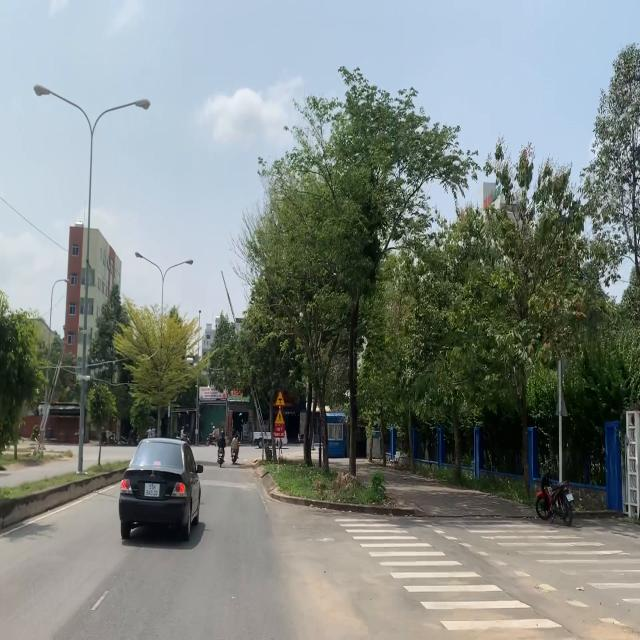Duong giao nhau: (275, 390, 286, 407)
Nguoi di bo cat ngang: (274, 408, 286, 425)
